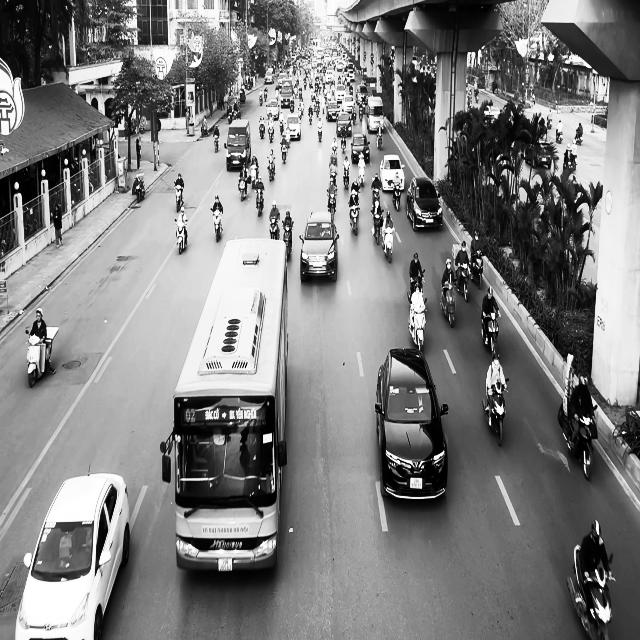bus: (160, 237, 288, 572)
car: (15, 468, 130, 640), (374, 347, 448, 501), (299, 210, 339, 282), (406, 177, 443, 231), (379, 154, 405, 192), (525, 140, 552, 169), (351, 134, 370, 164)
motorbike: (566, 544, 615, 640), (558, 399, 598, 480), (24, 326, 58, 387), (482, 377, 509, 446), (407, 292, 427, 352), (481, 310, 500, 357), (440, 280, 457, 327), (456, 261, 471, 302), (174, 218, 188, 254), (471, 250, 483, 288), (210, 207, 223, 242), (382, 225, 394, 262), (371, 210, 383, 245), (348, 201, 360, 235), (282, 222, 293, 257), (327, 188, 337, 222), (134, 174, 145, 202), (254, 186, 264, 216), (174, 184, 184, 212), (268, 217, 280, 240), (238, 175, 248, 201), (392, 184, 401, 211), (267, 156, 275, 181), (280, 139, 288, 163), (343, 163, 350, 188), (358, 162, 365, 187), (376, 126, 383, 149), (213, 131, 220, 153)
